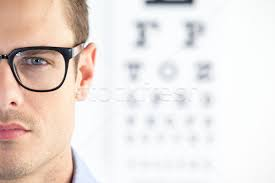Glasses: (1, 36, 90, 96)
